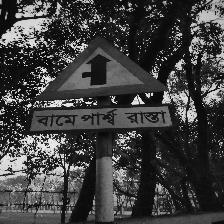Side-road-left: (30, 35, 175, 135)
